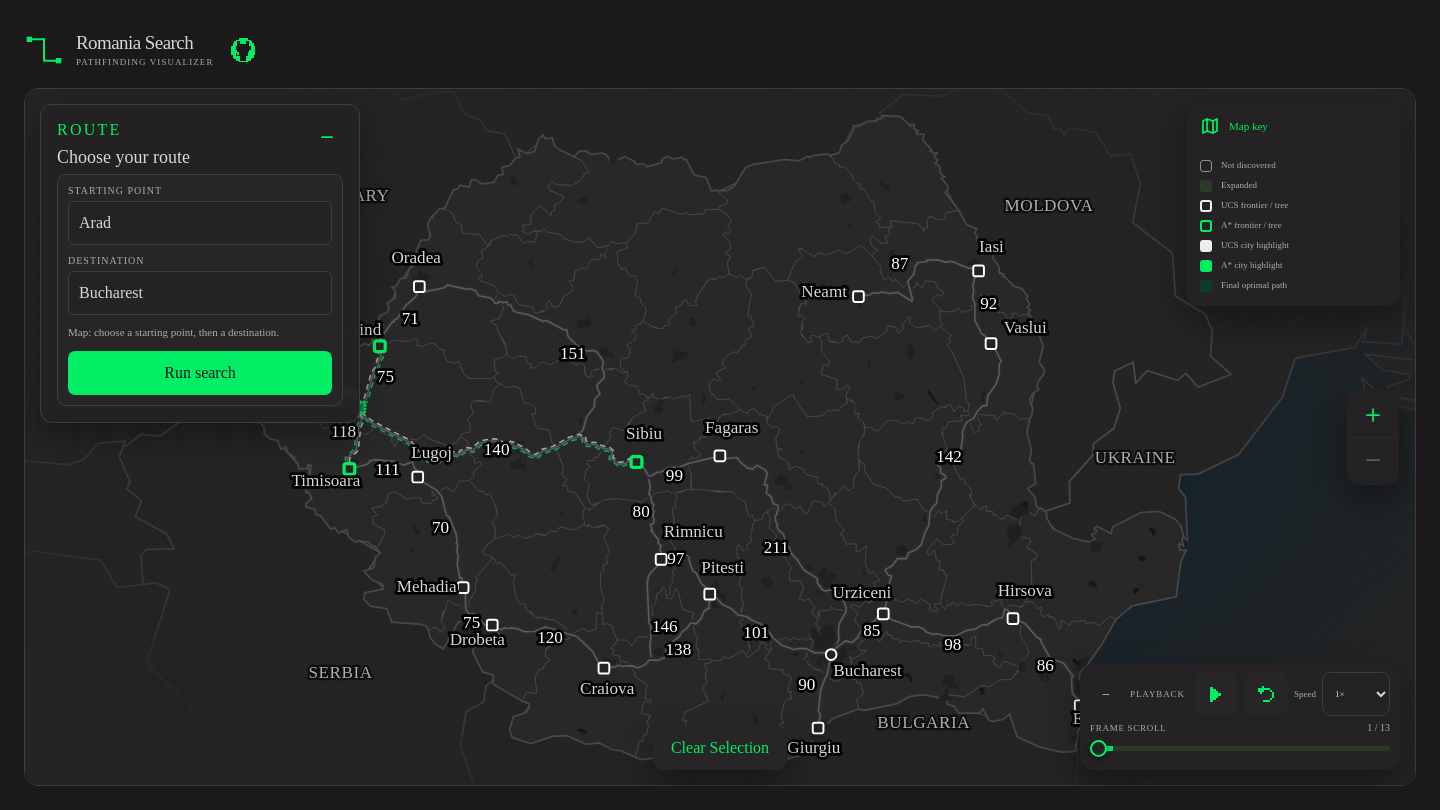
Test case: RomaniaSearch › minimizes playback and reopens it without an extra icon
Click the button named "Minimize playback controls" at [1106, 694], box [1090,672,1122,716]
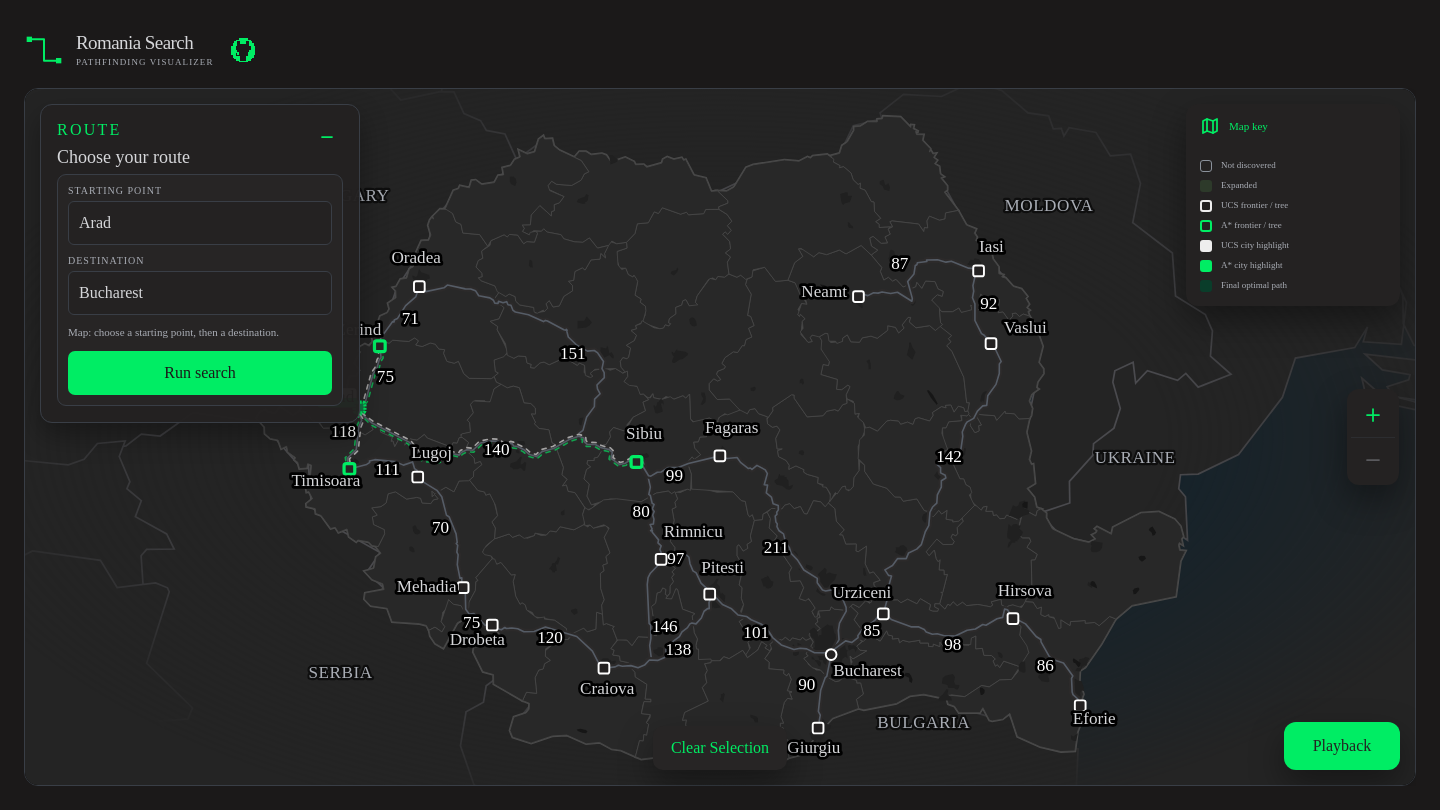
Click the button with aria-label "Open playback controls" at [1342, 746], box [1284,722,1400,770]
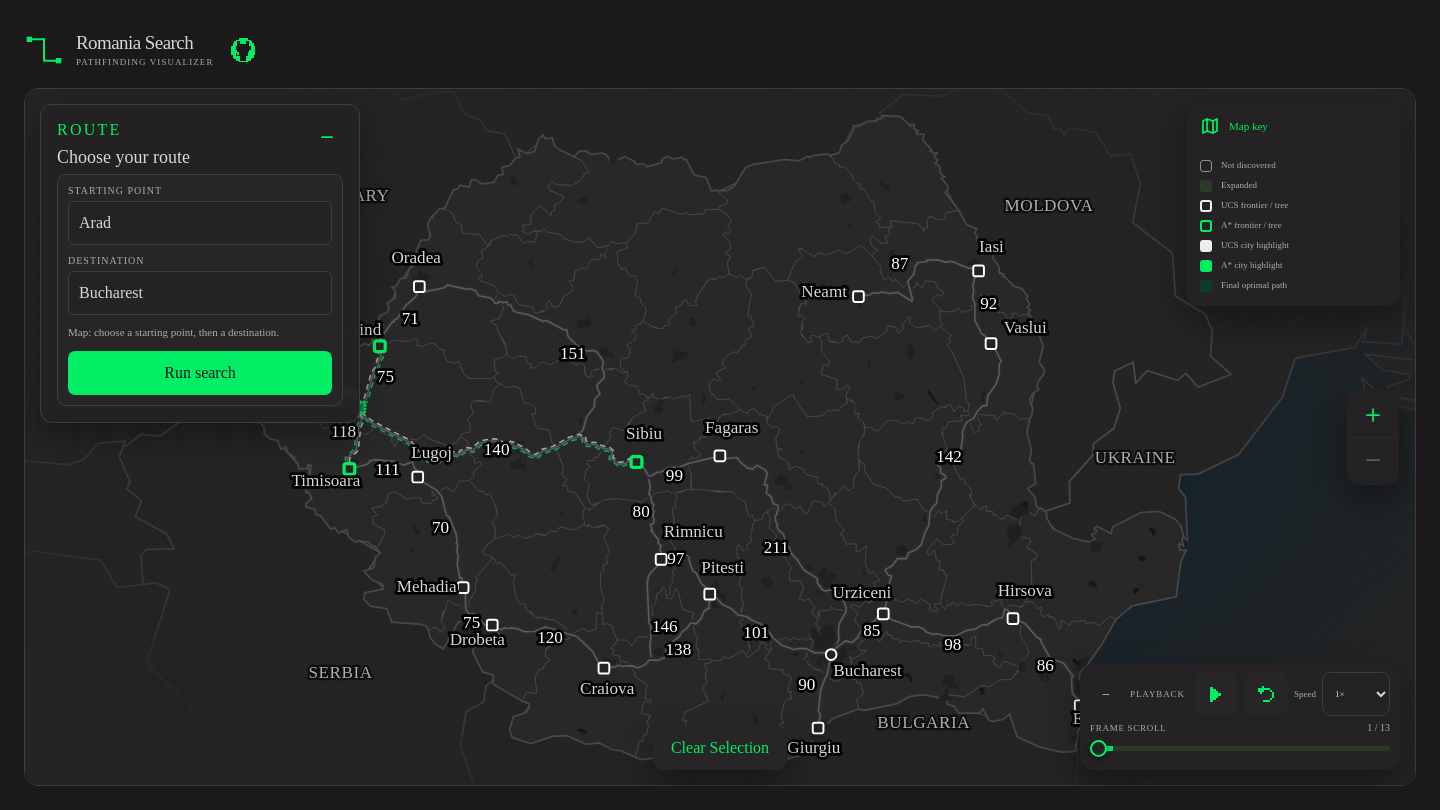
Now the button named "Minimize playback controls" is shown, box [1090,672,1122,716]
